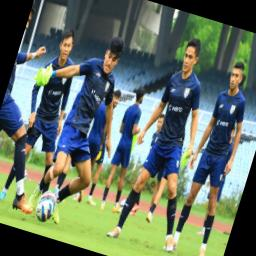football: (32, 188, 59, 224)
